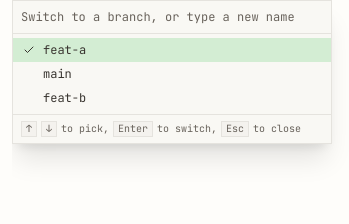
Test: BranchPicker › keeps the picker open and shows the reason when the switch is refused
The width and height of the screenshot is (349, 224).
Click the button "main" at (57, 74), box [13, 62, 331, 86]
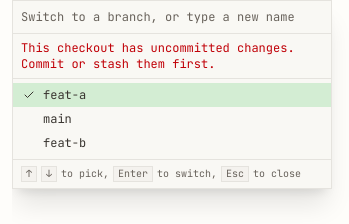
Expected: the text "feat-a" is shown, [43, 87, 86, 103]
Now the text "uncommitted changes" is shown, box [21, 40, 295, 72]
